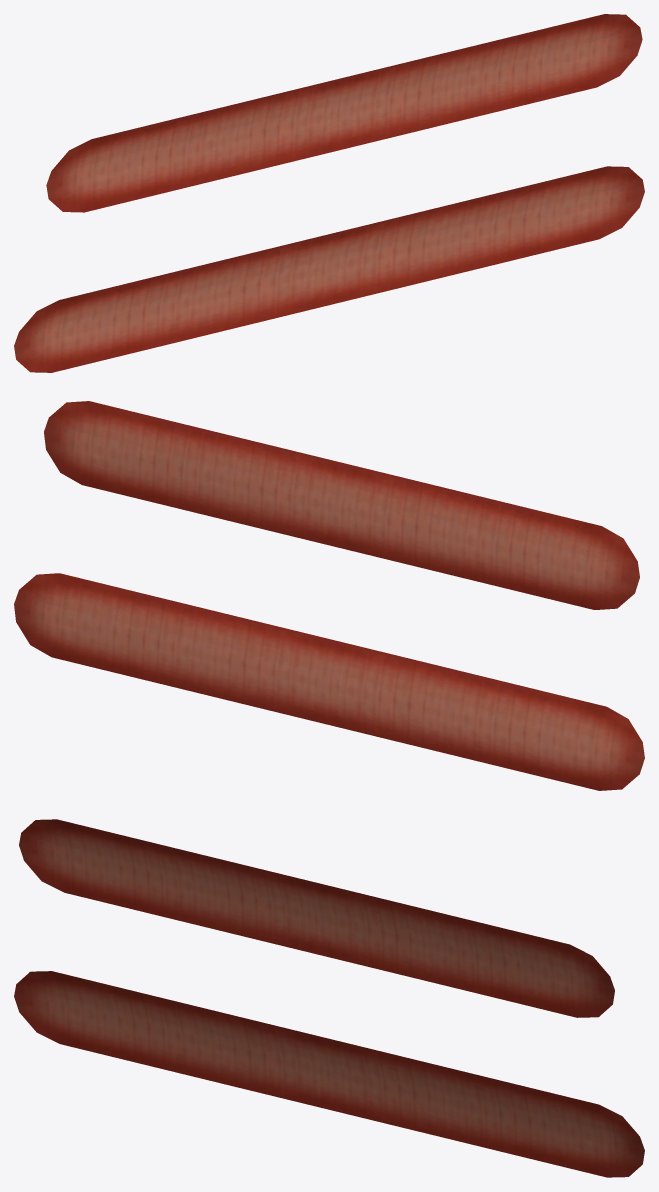
The model's file is vt49_engine_s02_on_l0.fbx.
The picture shows the model from 3 angles, top to bottom: view 1: azimuth 30°, elevation 25°; view 2: azimuth 150°, elevation 25°; view 3: azimuth 330°, elevation 25°; orthographic projection.
Parts seen in each view (by area): view 1: mesh_node; view 2: mesh_node; view 3: mesh_node.
Part boxes in pixels (<box>): mesh_node: <box>14,14,644,372</box>; mesh_node: <box>14,401,644,790</box>; mesh_node: <box>14,819,644,1177</box>.
Size of the model in its own units: 7.75 by 2.87 by 0.4519.
1 material, 1 textured.
